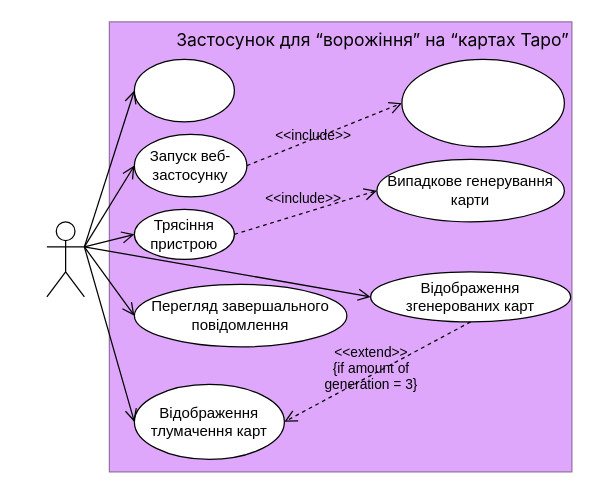
Image size: 594x494. Some labels were removed from this diagram. Here are the shapes that lost their labels. From the top down, the centre of each, then its label:
[183,90]: Введення питання
[482,102]: Виведення вітання та пояснення ідеї ворожіння
[65,259]: Користувач
